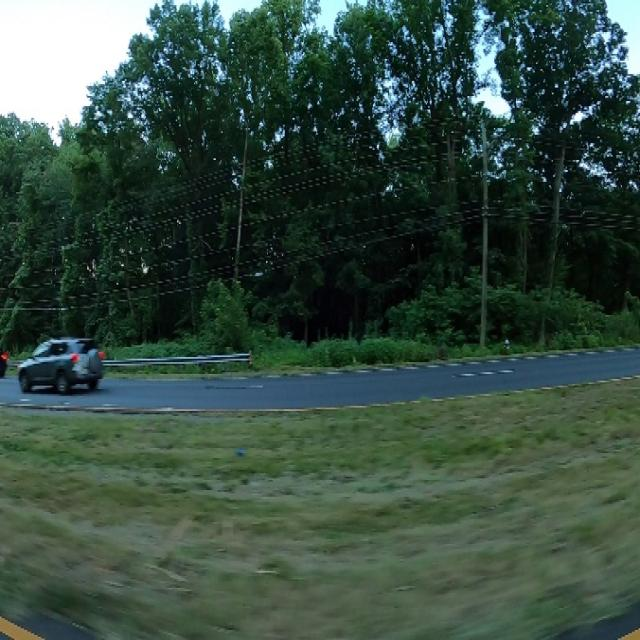car: (11, 325, 109, 401)
